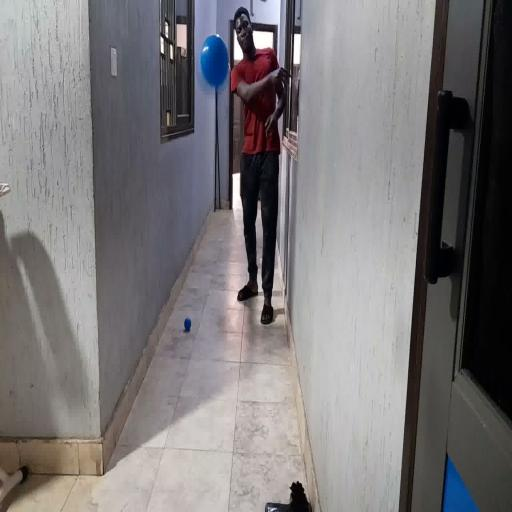plastic-ball: (197, 32, 232, 97)
